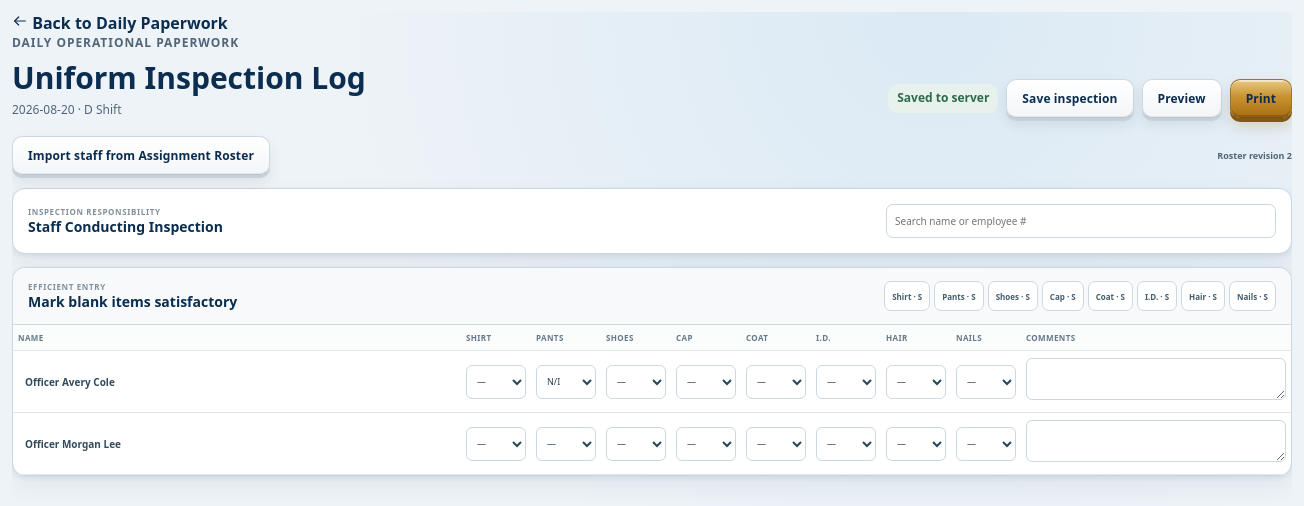
Uniform Inspection editor › selects the inspecting staff member by searchable roster identity
The width and height of the screenshot is (1304, 506).
Step 1. Type "Riley" into the dropdown named "Staff Conducting Inspection" → [1081, 221], box x1=886 y1=204 x2=1276 y2=238
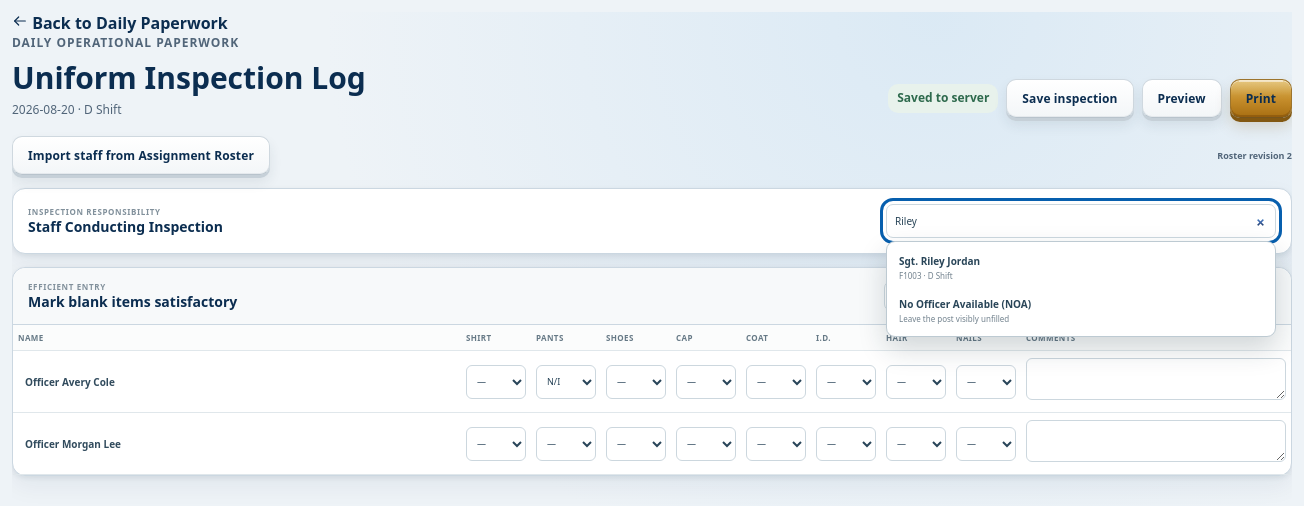
Step 2. Press Arrowdown Enter
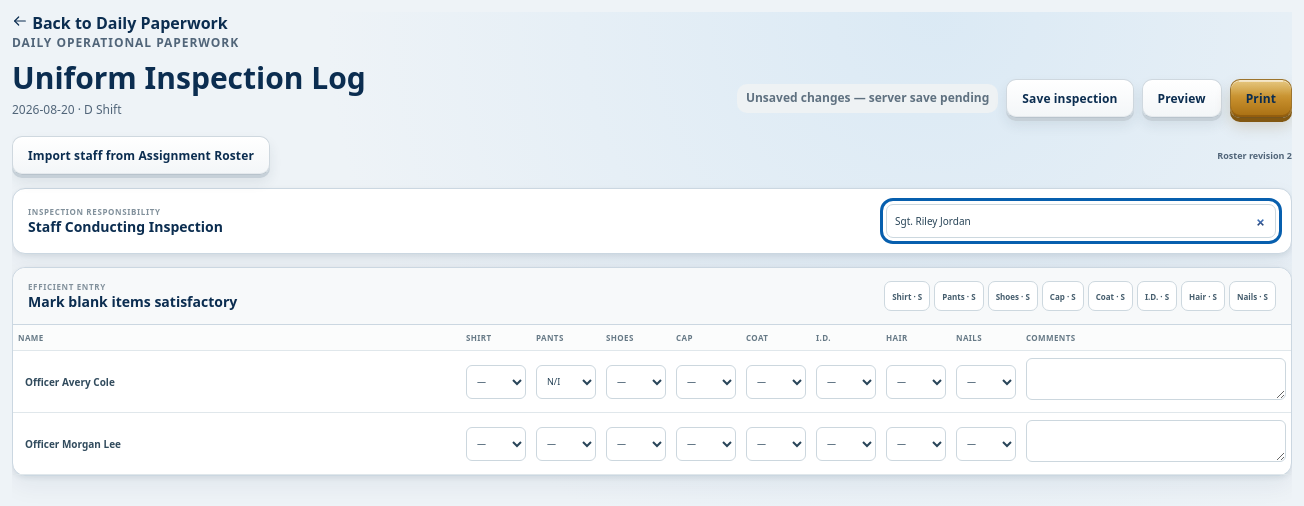
Expected: the text "2026-08-20 · D Shift" is shown, x1=12 y1=101 x2=122 y2=118
Expected: the dropdown named "Staff Conducting Inspection" holds "Sgt. Riley Jordan", x1=886 y1=204 x2=1276 y2=238
